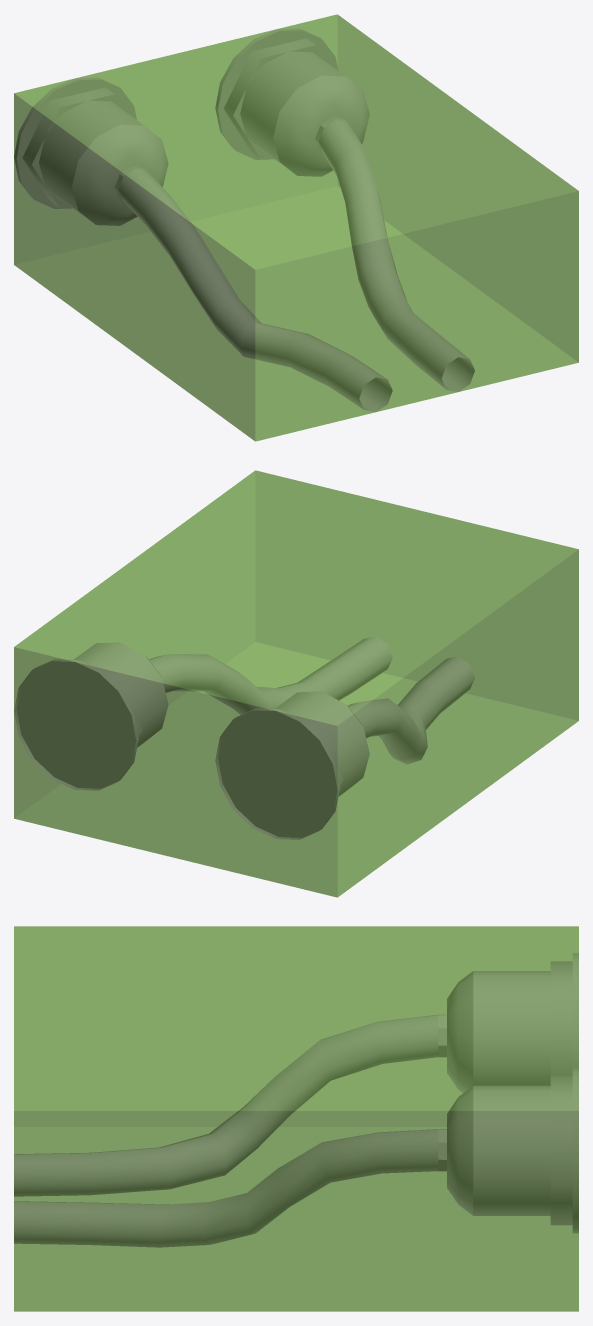
File: p_CablingBigConnectorCable_01_a.fbx
The picture shows the model from 3 angles, top to bottom: view 1: azimuth 30°, elevation 25°; view 2: azimuth 150°, elevation 25°; view 3: azimuth 270°, elevation 25°; orthographic projection. The views are drawn at different scales.
Parts seen in each view (by area): view 1: p_CablingBigConnectorCable_01_a_col, p_CablingBigConnectorCable_01_a_LOD0; view 2: p_CablingBigConnectorCable_01_a_col, p_CablingBigConnectorCable_01_a_LOD0; view 3: p_CablingBigConnectorCable_01_a_col, p_CablingBigConnectorCable_01_a_LOD0.
Part boxes in pixels (left/top/right/bottom): p_CablingBigConnectorCable_01_a_col: left=14, top=14, right=578, bottom=441; p_CablingBigConnectorCable_01_a_LOD0: left=14, top=28, right=474, bottom=411; p_CablingBigConnectorCable_01_a_col: left=14, top=470, right=578, bottom=897; p_CablingBigConnectorCable_01_a_LOD0: left=14, top=636, right=474, bottom=839; p_CablingBigConnectorCable_01_a_col: left=14, top=926, right=578, bottom=1311; p_CablingBigConnectorCable_01_a_LOD0: left=14, top=953, right=578, bottom=1247.
Size of what is drawn, in the model's own units: 9.67 by 4.9 by 12.5.
